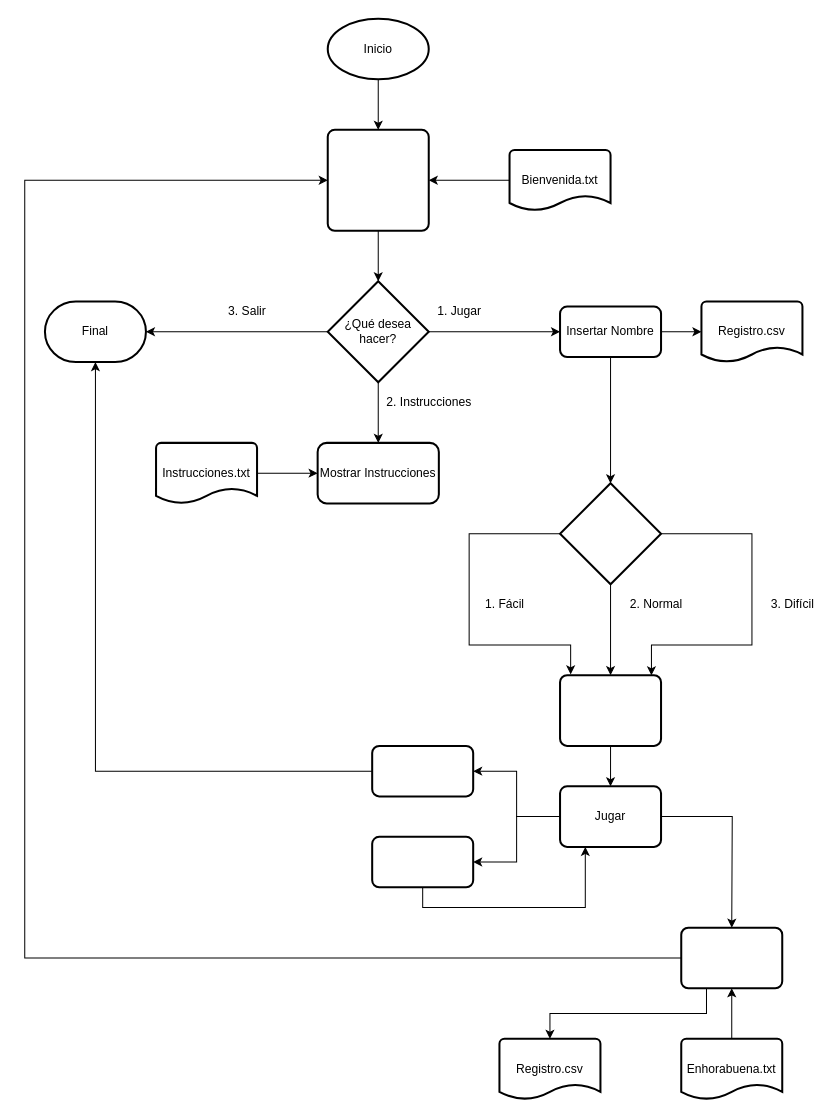
The diagram is 840 pixels wide and 1117 high, and some of its shapes have lost their labels. The shapes that lost their labels are listed below. From the top down, each one's centre as x and y in pixels, then its label:
(377,179): Menú Principal
(610,533): Elegir dificultad
(610,710): Elegir coordenadas de inicio
(422,770): Salir
(422,861): Movimiento
(731,957): Finaliza laberinto
